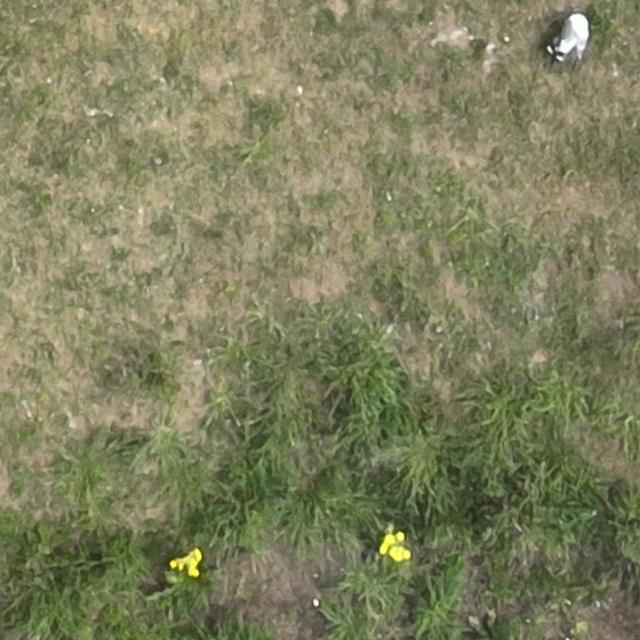umineko: (558, 15, 589, 55)
